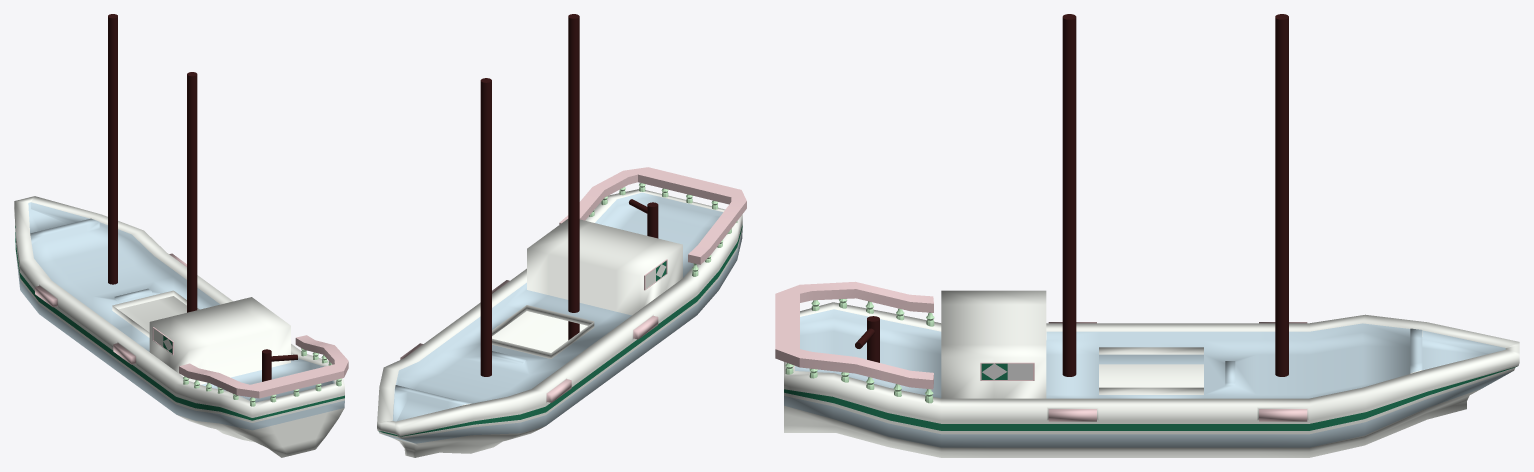
Rendered from Ship.glb.
3 views of the same model, side by side, from view 1: azimuth 30°, elevation 25°; view 2: azimuth 150°, elevation 25°; view 3: azimuth 270°, elevation 25° (orthographic). The views are drawn at different scales.
Parts seen in each view (by area): view 1: Ship Body, Back Overboard, Wood 1, Wood 2; view 2: Ship Body, Back Overboard, Wood 2, Wood 1, Back Steering Main Body, Cube.002; view 3: Ship Body, Back Overboard, Wood 2, Wood 1, Cube.003.
Boxes of the visible parts, x1,y1,x2,y2 form: Ship Body: (14,196,344,457); Back Overboard: (179,335,348,398); Wood 1: (108,14,117,284); Wood 2: (187,72,197,312); Ship Body: (377,189,742,457); Back Overboard: (559,167,746,264); Wood 2: (568,14,579,340); Wood 1: (480,78,491,376); Back Steering Main Body: (647,202,658,238); Cube.002: (644,259,667,290); Ship Body: (784,290,1519,457); Back Overboard: (775,281,933,389); Wood 2: (1062,14,1076,376); Wood 1: (1275,14,1288,376); Cube.003: (980,362,1034,380).
Size of the model in its own units: 3.09 by 6.91 by 10.83.
